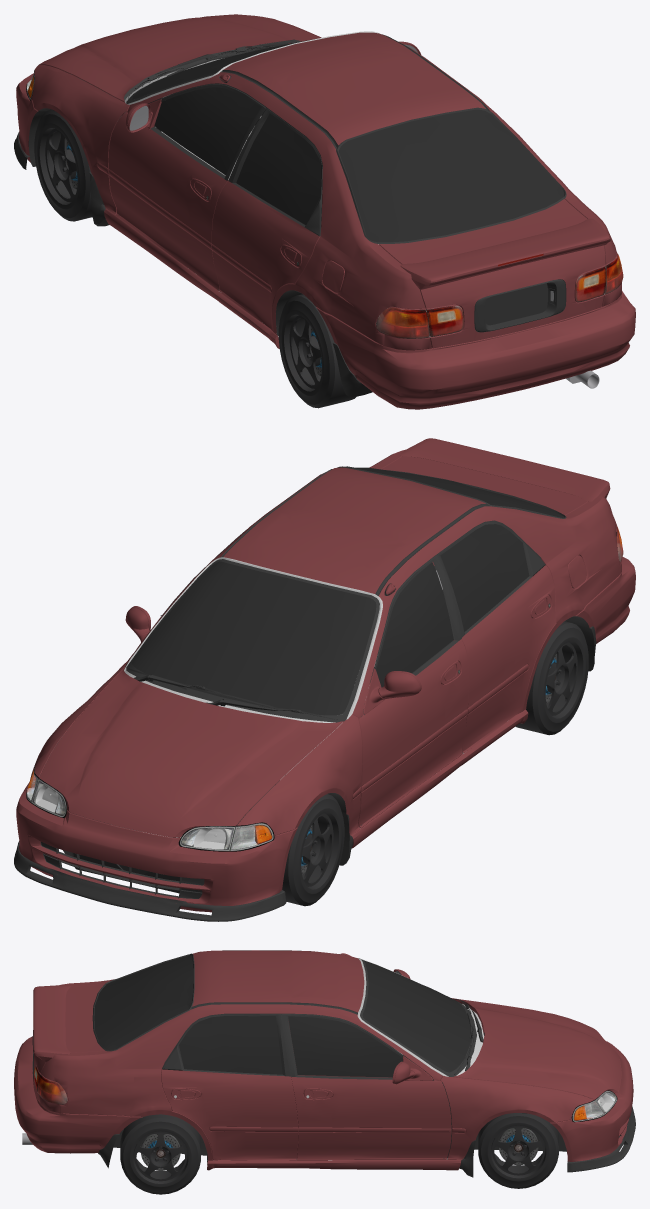
Rendered from CarDE02.3.fbx.
3 views of the same model, one above another, from view 1: azimuth 30°, elevation 25°; view 2: azimuth 150°, elevation 25°; view 3: azimuth 270°, elevation 25° (orthographic). The views are drawn at different scales.
Parts seen in each view (by area): view 1: Body, Mirror, Body.001, Wheel, Tail_Lamp, Glass_Rubber; view 2: Body, Mirror, Body.001, Wheel, Headlights, Glass_Rubber, Headlights.001; view 3: Body, Mirror, Wheel, Body.001, Brake_Disc, Glass_Rubber, Tail_Lamp, Headlights.
Boxes of the visible parts, x1=… form: Body: x1=16, y1=14, x2=635, y2=409; Mirror: x1=132, y1=39, x2=564, y2=242; Body.001: x1=14, y1=34, x2=566, y2=396; Wheel: x1=34, y1=109, x2=356, y2=408; Tail_Lamp: x1=376, y1=253, x2=623, y2=338; Glass_Rubber: x1=124, y1=31, x2=380, y2=104; Body: x1=16, y1=438, x2=635, y2=912; Mirror: x1=132, y1=467, x2=564, y2=715; Body.001: x1=14, y1=466, x2=596, y2=921; Wheel: x1=282, y1=621, x2=588, y2=906; Headlights: x1=26, y1=767, x2=274, y2=851; Glass_Rubber: x1=124, y1=557, x2=382, y2=727; Headlights.001: x1=35, y1=784, x2=227, y2=849; Body: x1=14, y1=950, x2=633, y2=1170; Mirror: x1=94, y1=955, x2=471, y2=1077; Wheel: x1=120, y1=1113, x2=558, y2=1194; Body.001: x1=32, y1=950, x2=635, y2=1177; Brake_Disc: x1=141, y1=1128, x2=538, y2=1170; Glass_Rubber: x1=357, y1=958, x2=484, y2=1076; Tail_Lamp: x1=34, y1=1065, x2=67, y2=1104; Headlights: x1=571, y1=1090, x2=617, y2=1122.
Bounding box in the file's own units: 175 × 138 × 439.
